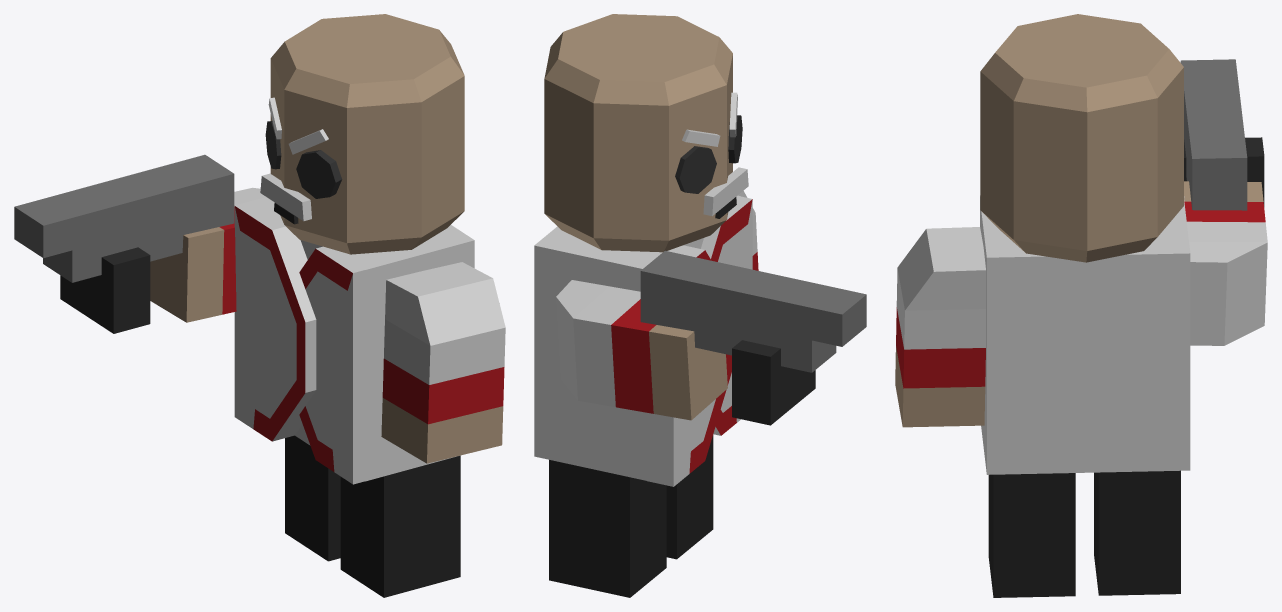
File: Enemysketch.fbx
The picture shows the model from 3 angles, left to right: view 1: azimuth 30°, elevation 25°; view 2: azimuth 150°, elevation 25°; view 3: azimuth 270°, elevation 25°; orthographic projection. The views are drawn at different scales.
Parts seen in each view (by area): view 1: Cylinder.001; view 2: Cylinder.001; view 3: Cylinder.001.
Boxes of the visible parts, x1,y1,x2,y2 form: Cylinder.001: [14, 14, 505, 597]; Cylinder.001: [534, 14, 866, 597]; Cylinder.001: [895, 14, 1267, 597].
Size of the model in its own units: 333 by 444 by 287.
